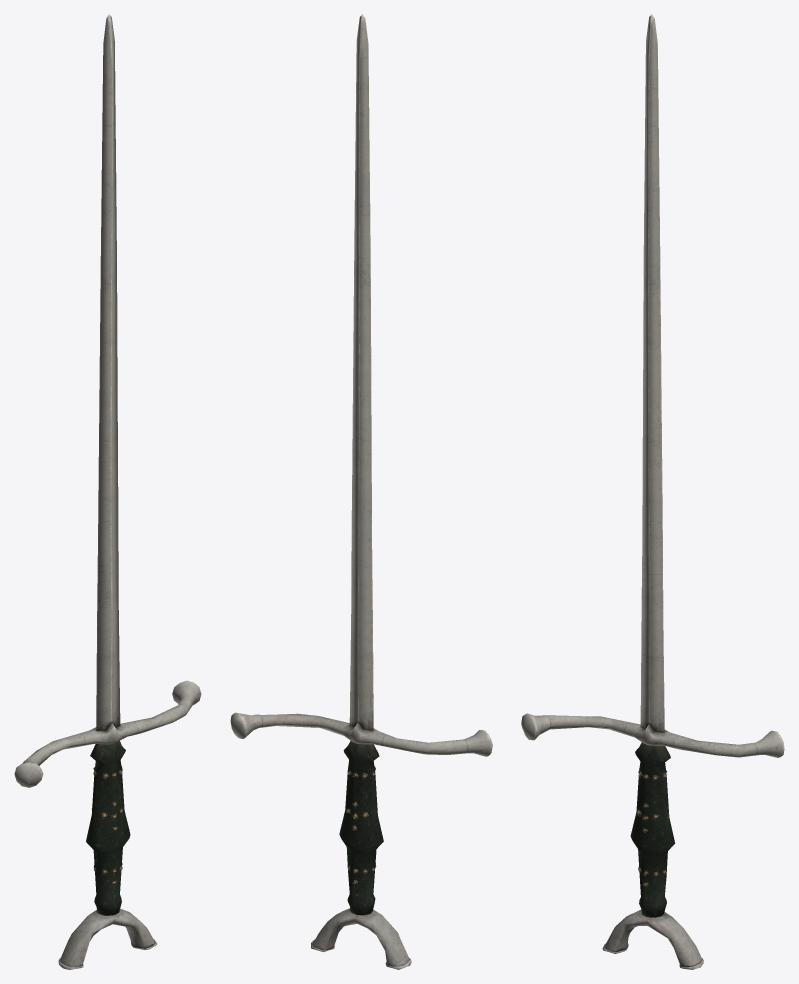
File: antique_estoc.glb
3 renders of one model, left to right at view 1: azimuth 30°, elevation 25°; view 2: azimuth 150°, elevation 25°; view 3: azimuth 330°, elevation 25°, orthographic.
Visible parts, largest first — view 1: antique_estoc; view 2: antique_estoc; view 3: antique_estoc.
Part boxes in pixels (box(x1,y1,x2,y2)): antique_estoc: box(14, 14, 201, 969); antique_estoc: box(230, 14, 492, 969); antique_estoc: box(521, 14, 784, 969).
Bounding box in the file's own units: 0.3715 × 1.49 × 0.1479.
Materials: 1 (1 with a texture image).
